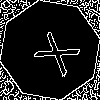X: (25, 25, 81, 77)
